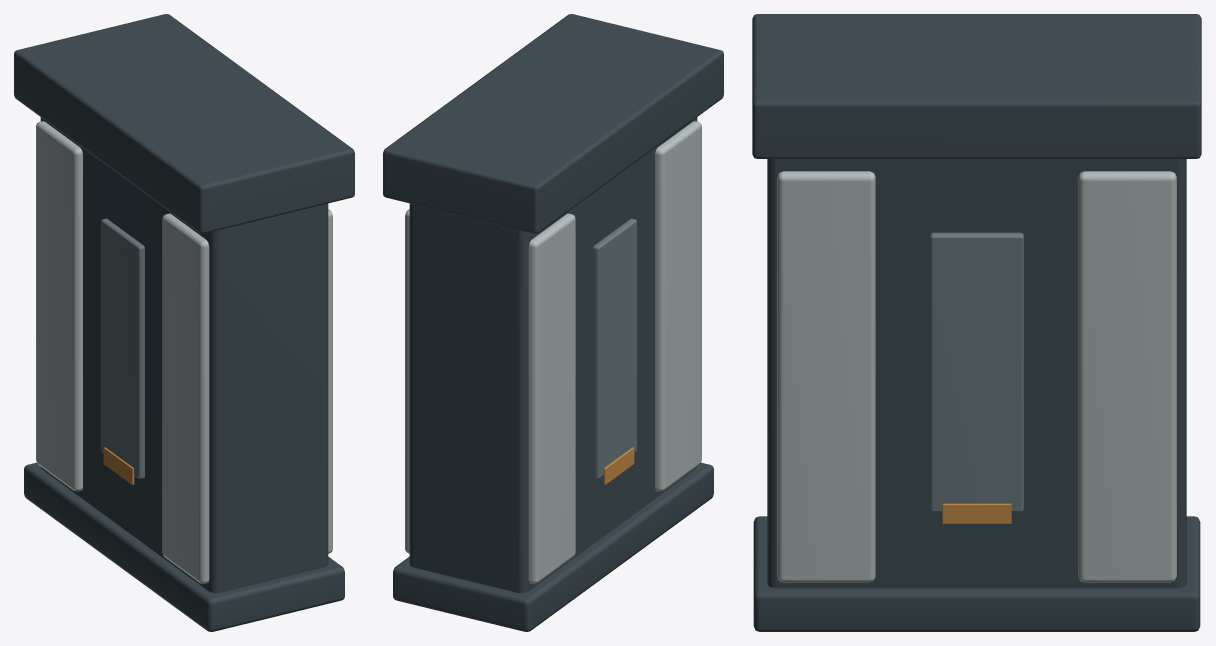
The model's file is CatwalkPier.fbx.
3 views of the same model, side by side, from view 1: azimuth 30°, elevation 25°; view 2: azimuth 150°, elevation 25°; view 3: azimuth 270°, elevation 25° (orthographic). The views are drawn at different scales.
Visible parts, largest first — view 1: FoundryFrame Mesh.002, FoundryCeramic Mesh.002, FoundryFloorAlt Mesh.001, CatwalkSafetyPaint Mesh.002; view 2: FoundryFrame Mesh.002, FoundryCeramic Mesh.002, FoundryFloorAlt Mesh.001, CatwalkSafetyPaint Mesh.002; view 3: FoundryFrame Mesh.002, FoundryCeramic Mesh.002, FoundryFloorAlt Mesh.001, CatwalkSafetyPaint Mesh.002.
Part boxes in pixels (x1,y1,x2,y2): FoundryFrame Mesh.002: [14, 14, 354, 631]; FoundryCeramic Mesh.002: [36, 121, 332, 583]; FoundryFloorAlt Mesh.001: [101, 218, 144, 478]; CatwalkSafetyPaint Mesh.002: [103, 447, 134, 484]; FoundryFrame Mesh.002: [383, 14, 723, 631]; FoundryCeramic Mesh.002: [405, 121, 701, 583]; FoundryFloorAlt Mesh.001: [593, 218, 636, 478]; CatwalkSafetyPaint Mesh.002: [603, 447, 634, 484]; FoundryFrame Mesh.002: [752, 14, 1201, 631]; FoundryCeramic Mesh.002: [777, 171, 1176, 582]; FoundryFloorAlt Mesh.001: [930, 232, 1023, 512]; CatwalkSafetyPaint Mesh.002: [942, 503, 1011, 523].
Size of the model in its own units: 0.87 by 2.4 by 1.82.
